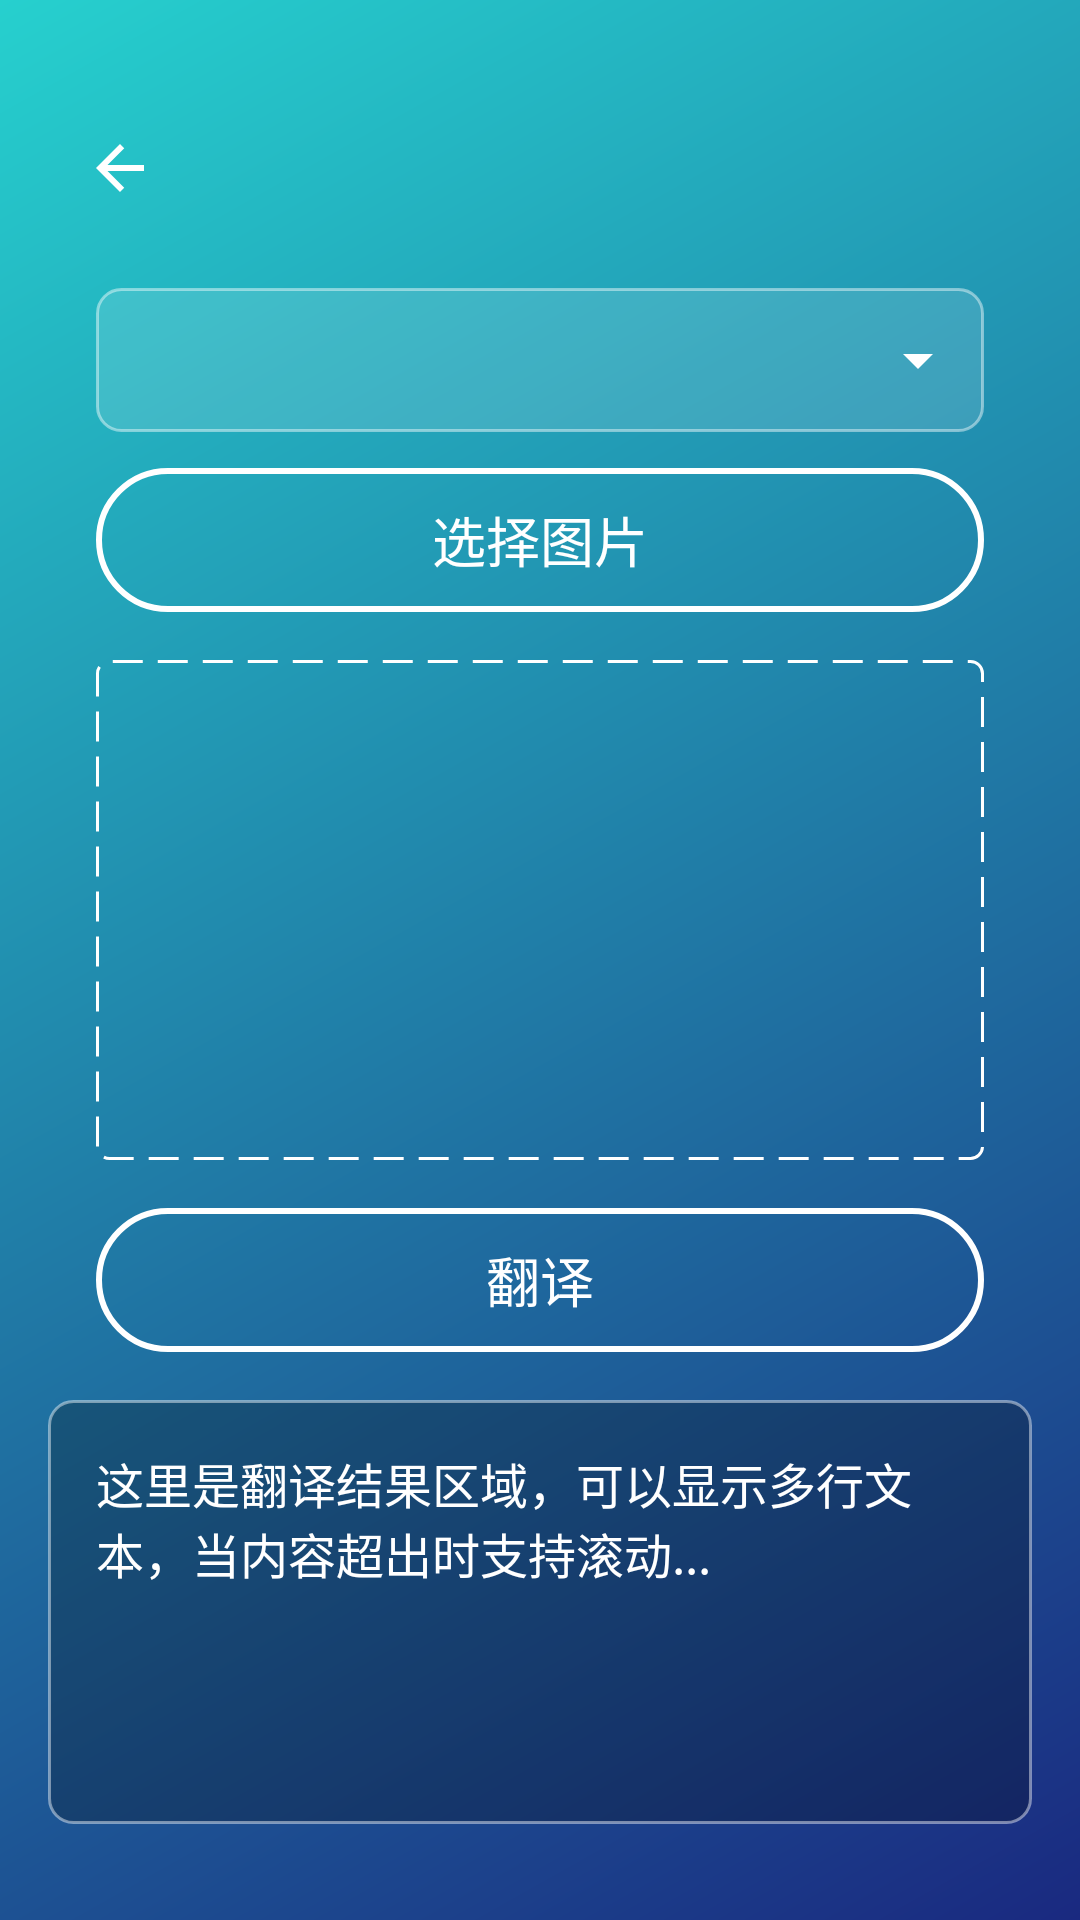

Icons on this 1080w x 1920h Android screen, each with the point to tap as [x,y]:
返回上页: [120,168]
